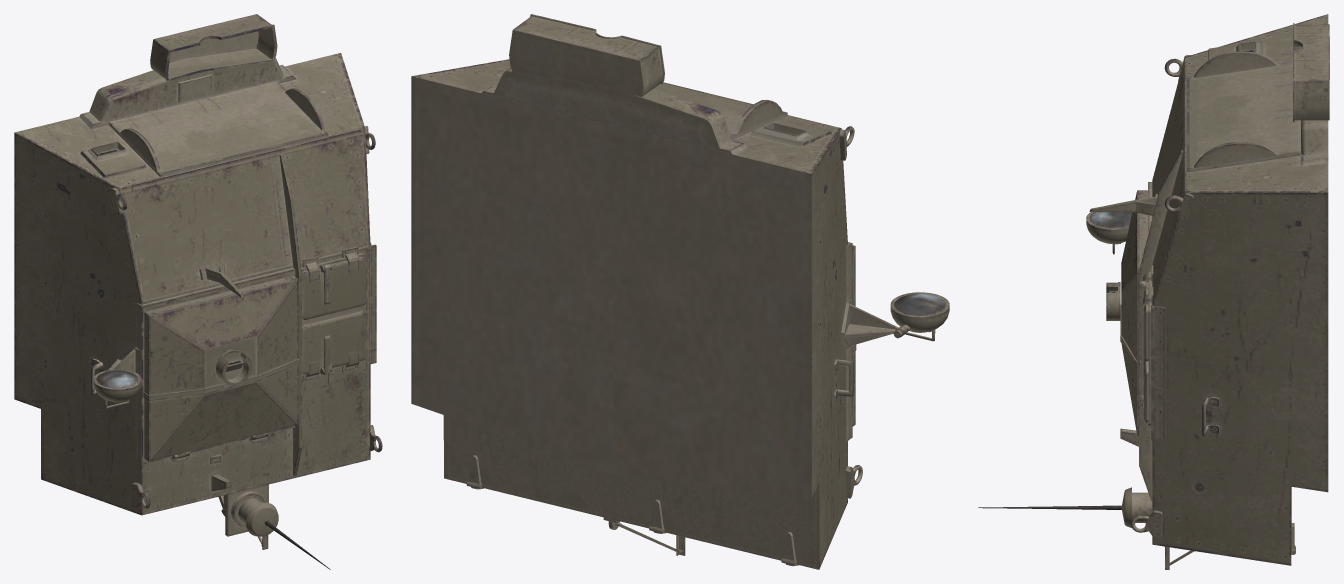
The model's file is Turret_01.glb.
3 renders of one model, left to right at view 1: azimuth 30°, elevation 25°; view 2: azimuth 150°, elevation 25°; view 3: azimuth 270°, elevation 25°, orthographic. The views are drawn at different scales.
Parts seen in each view (by area): view 1: set_0_group_0; view 2: set_0_group_0; view 3: set_0_group_0.
Boxes of the visible parts, bbox=[...] form: set_0_group_0: bbox=[14, 14, 382, 569]; set_0_group_0: bbox=[411, 14, 949, 569]; set_0_group_0: bbox=[978, 14, 1329, 569].
Bounding box in the file's own units: 1.79 × 2.35 × 1.43.
Materials: 1 (1 with a texture image).
